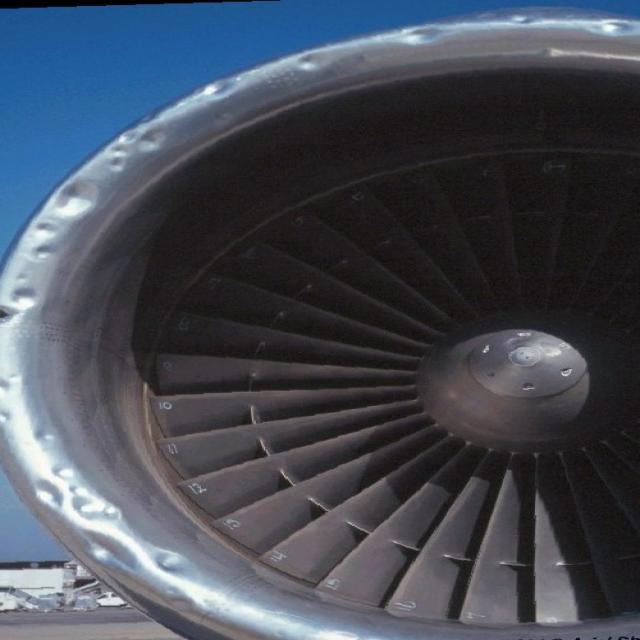dent: (26, 468, 218, 623), (51, 175, 105, 218)
